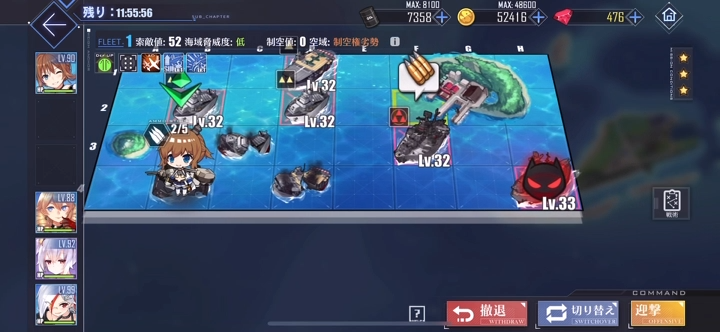boss: (510, 149, 575, 204)
lv3: (388, 106, 461, 163)
